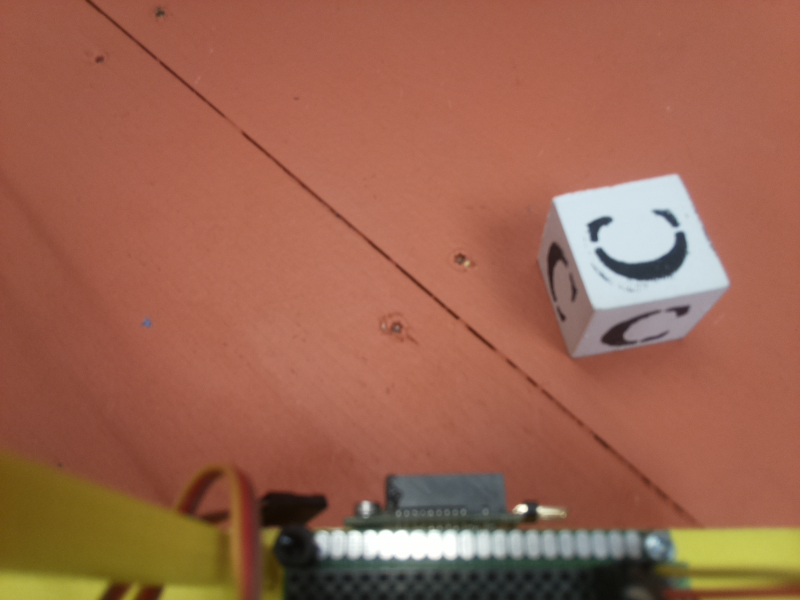blockC: (532, 172, 728, 359)
